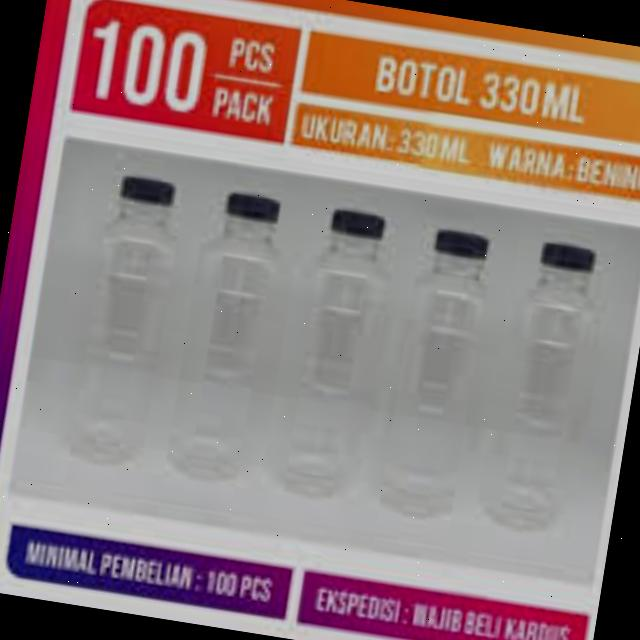trash: (156, 184, 308, 490), (377, 218, 522, 526), (476, 237, 618, 548), (56, 166, 190, 474), (274, 200, 407, 510)
